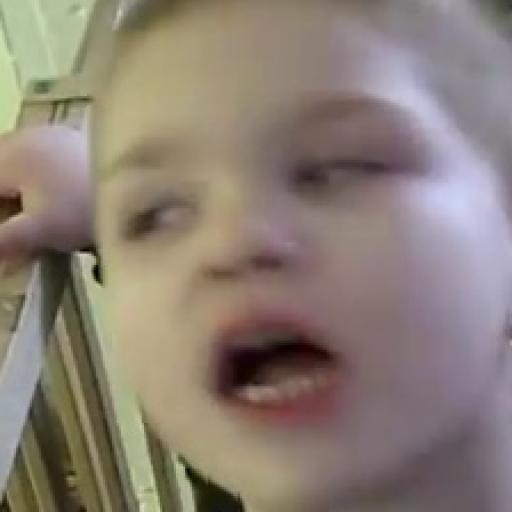Autism: (80, 14, 512, 510)
